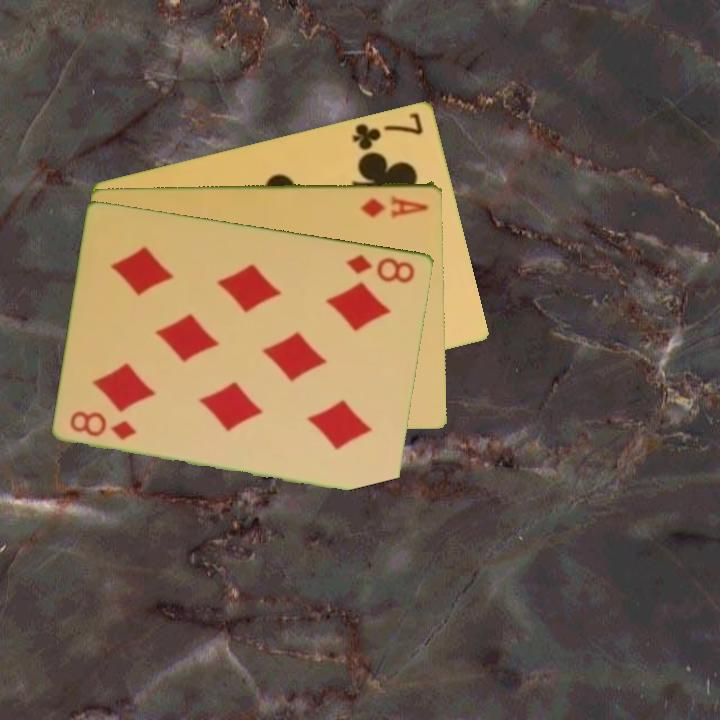7c: (349, 108, 427, 153)
8d: (343, 250, 418, 286), (67, 409, 140, 443)
Ad: (357, 192, 431, 220)
